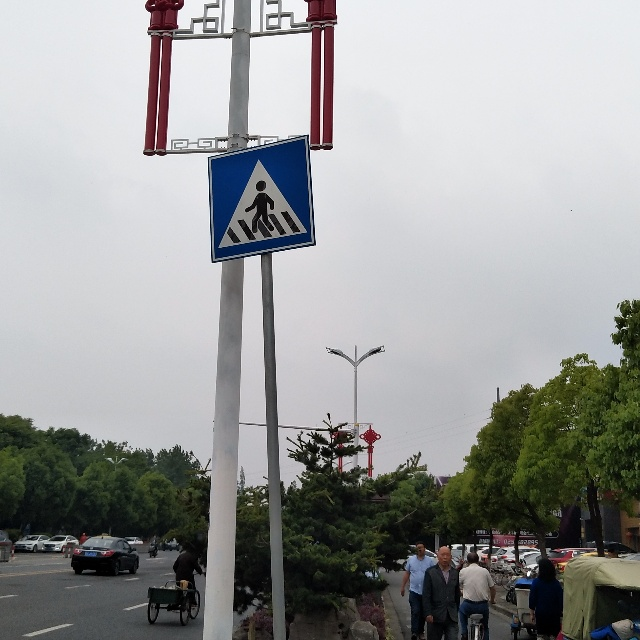crosswalk: (208, 137, 316, 262)
